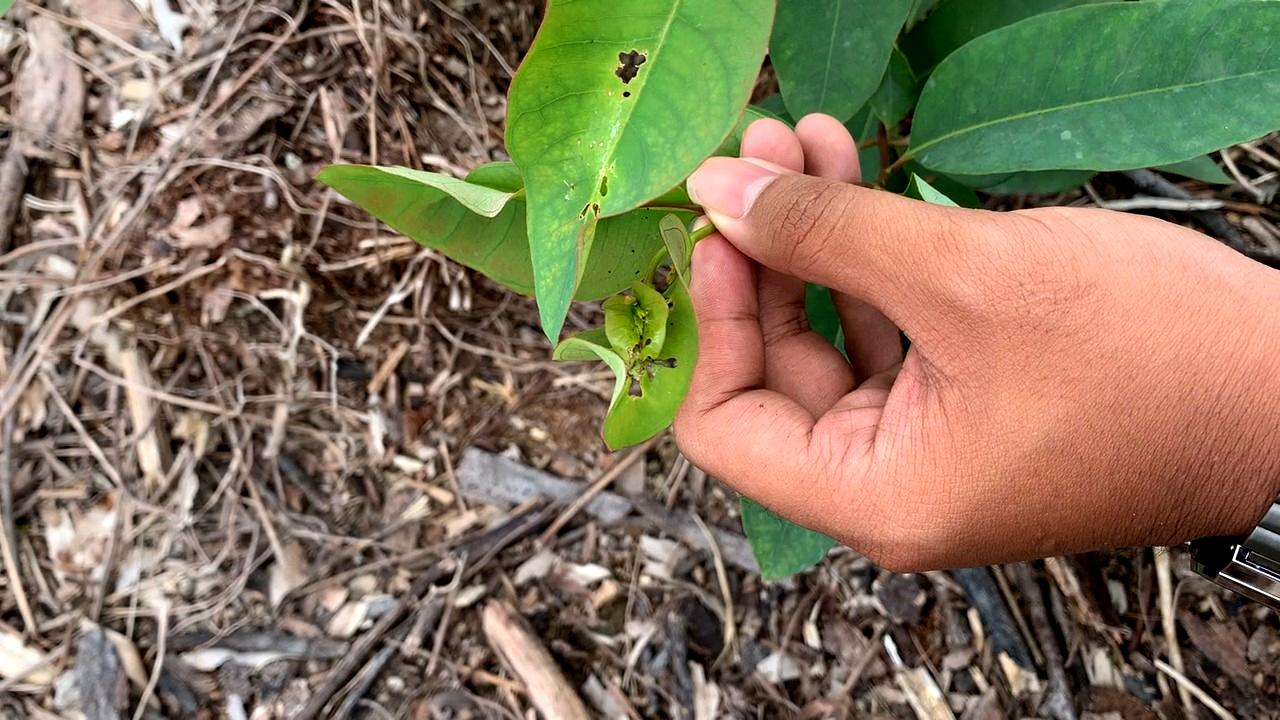Leaf Roller - Leaf: (600, 276, 673, 368)
